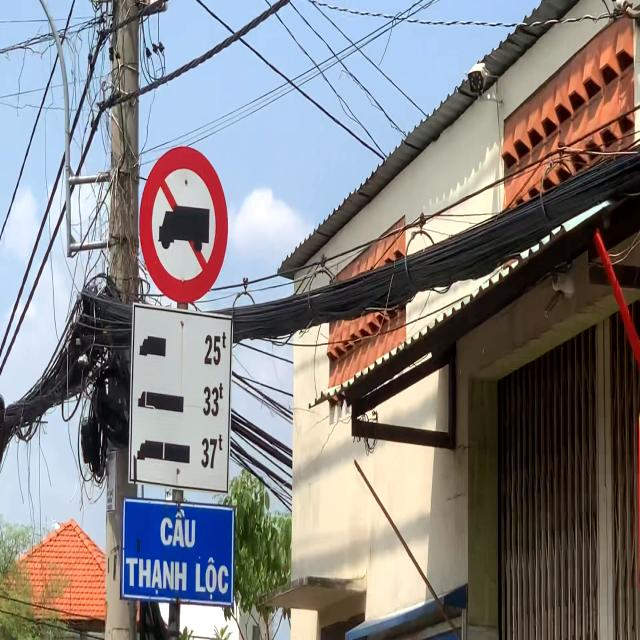P.106a: (137, 144, 229, 304)
